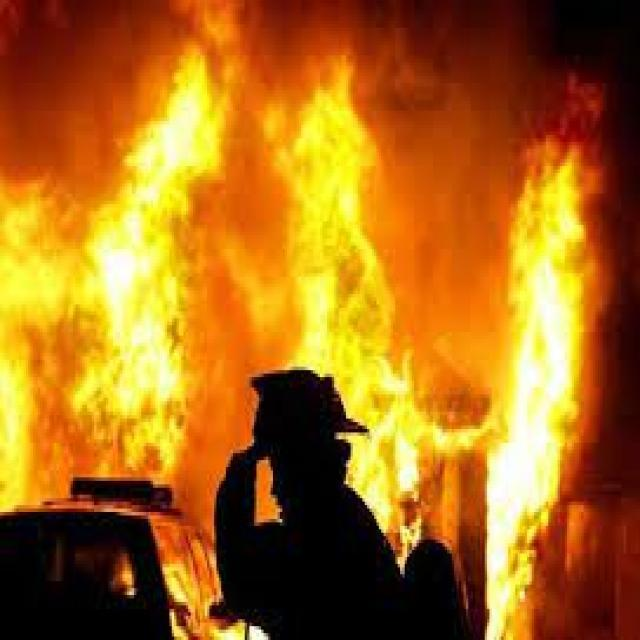Fire: (0, 173, 238, 505), (524, 229, 584, 526)
